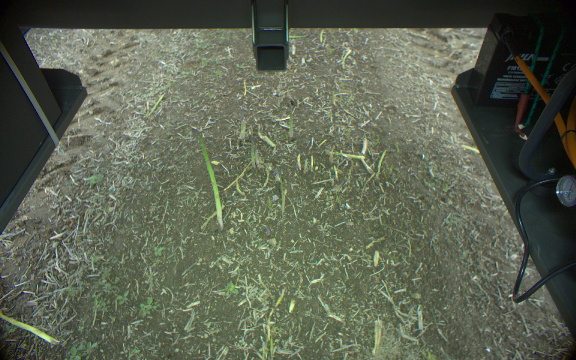aspa: (196, 133, 224, 231), (1, 301, 60, 346), (324, 148, 365, 161), (248, 135, 260, 171), (284, 104, 296, 140), (254, 131, 276, 149), (239, 110, 247, 142), (270, 166, 281, 187)
